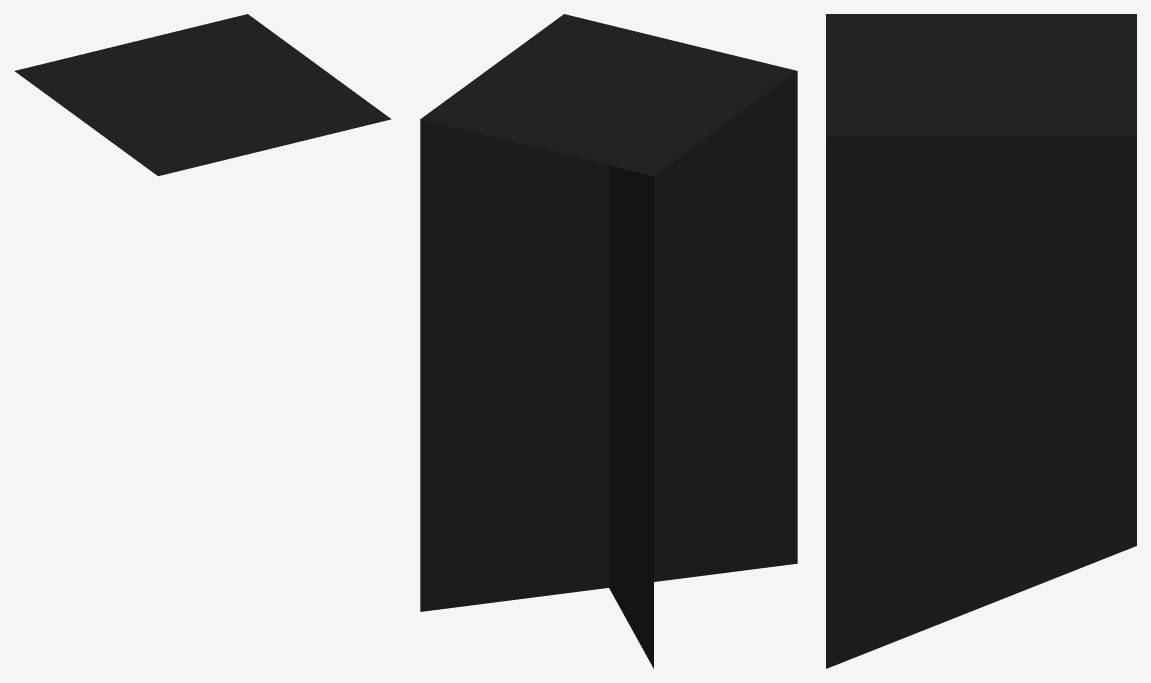
Rendered from AMB_KODATE_D4_02.glb.
3 renders of one model, left to right at view 1: azimuth 30°, elevation 25°; view 2: azimuth 150°, elevation 25°; view 3: azimuth 270°, elevation 25°, orthographic. The views are drawn at different scales.
Visible parts, largest first — view 1: BASE; view 2: BASE; view 3: BASE.
Part boxes in pixels (x1,y1,x2,y2): BASE: (15,14,391,176); BASE: (420,14,797,668); BASE: (826,14,1136,668).
Bounding box in the file's own units: 49.34 × 99.45 × 52.64.
Materials: 1 (1 with a texture image).
